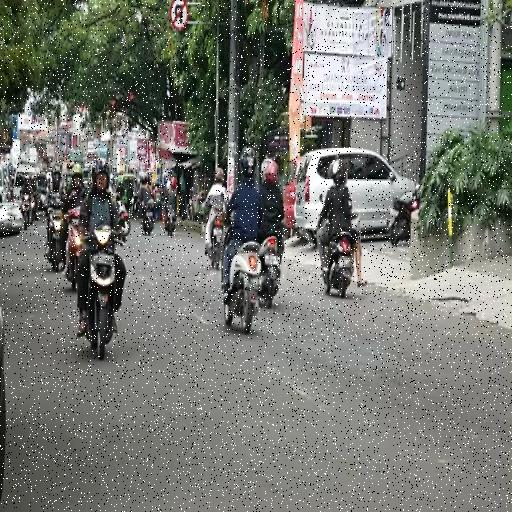Helmet: (240, 147, 255, 178), (92, 160, 109, 187), (331, 160, 347, 184), (262, 160, 278, 184), (72, 164, 83, 177), (215, 168, 223, 183), (171, 176, 177, 190), (67, 161, 74, 171), (141, 176, 148, 184), (24, 175, 29, 183), (156, 181, 161, 187)
Motor: (84, 226, 123, 359), (224, 243, 261, 333), (324, 232, 354, 297), (389, 192, 419, 245), (260, 236, 280, 307), (66, 208, 83, 289), (45, 201, 64, 271), (208, 211, 223, 269), (117, 200, 131, 241), (21, 194, 32, 230), (143, 201, 154, 235), (165, 205, 176, 235), (31, 193, 38, 223)
